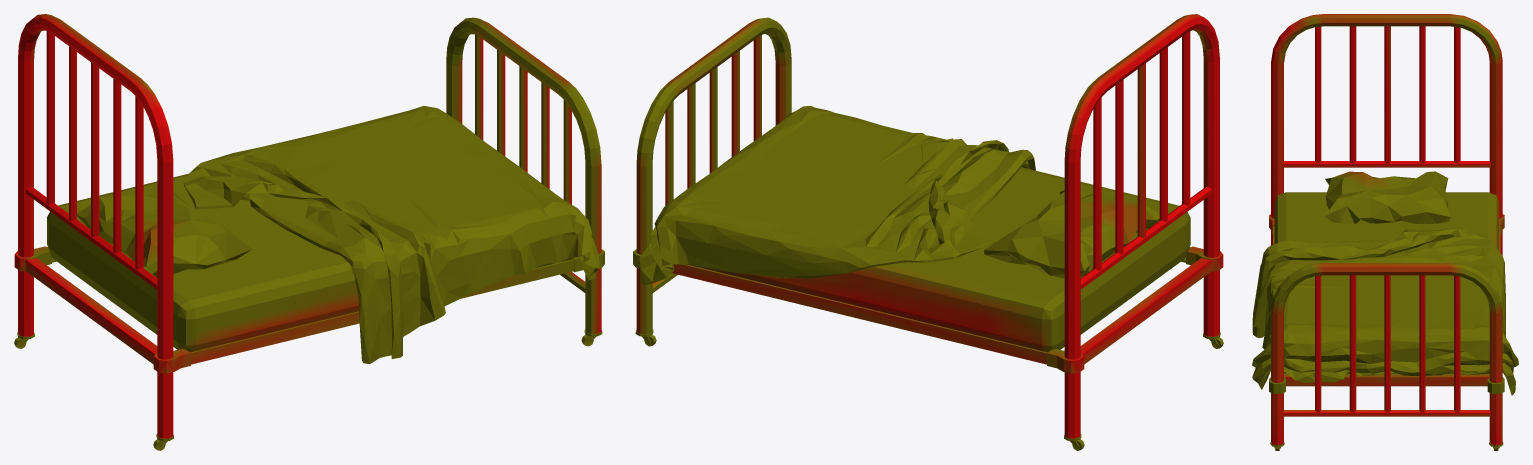
Rendered from out_mesh_seg.obj.
3 views of the same model, side by side, from view 1: azimuth 30°, elevation 25°; view 2: azimuth 150°, elevation 25°; view 3: azimuth 270°, elevation 25° (orthographic). The views are drawn at different scales.
Visible parts, largest first — view 1: geometry_0; view 2: geometry_0; view 3: geometry_0.
Part boxes in pixels (x1=…): geometry_0: x1=14, y1=14, x2=604, y2=450; geometry_0: x1=633, y1=14, x2=1223, y2=450; geometry_0: x1=1252, y1=14, x2=1518, y2=450.
Size of the model in its own units: 1.24 by 0.9283 by 0.8176.
